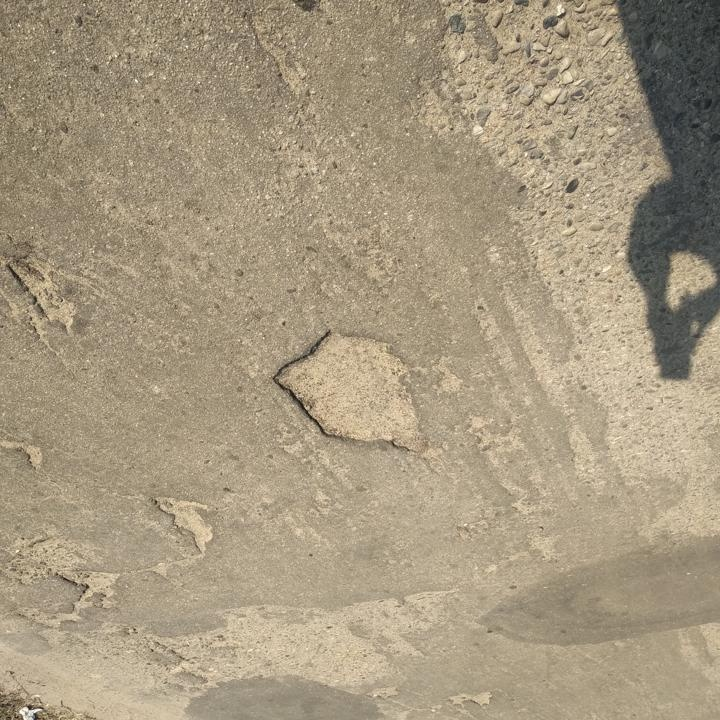pothole: (270, 327, 434, 461), (4, 258, 79, 336), (149, 491, 217, 556), (54, 564, 126, 610)
